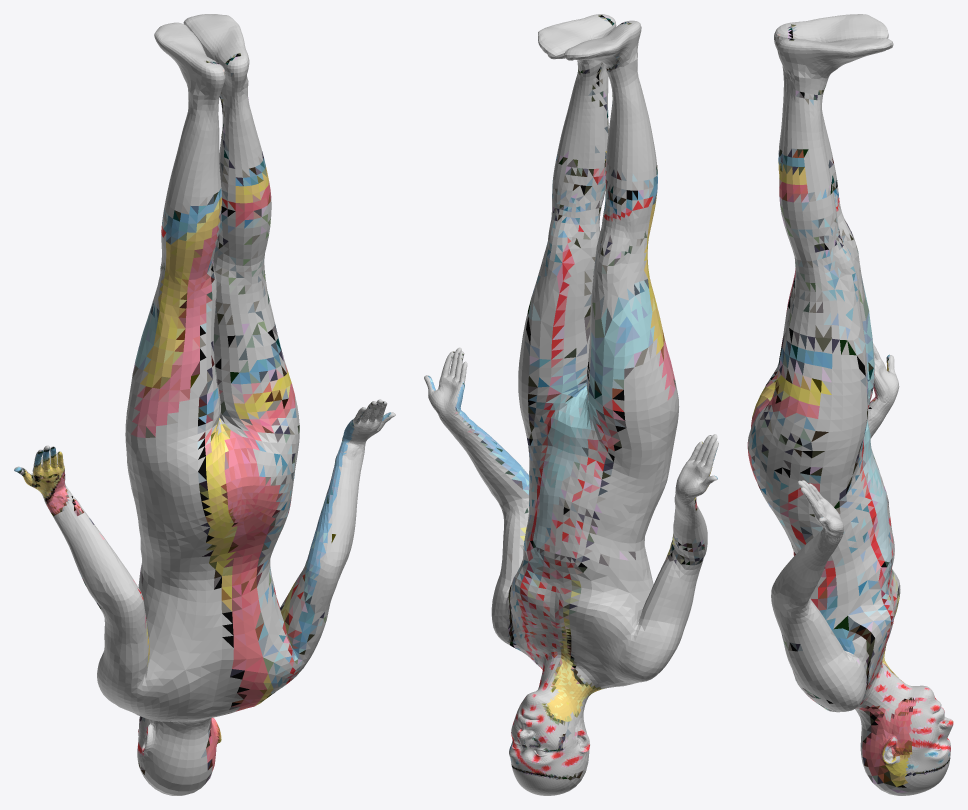
The model's file is body_CM1_colored.obj.
The picture shows the model from 3 angles, left to right: view 1: azimuth 30°, elevation 25°; view 2: azimuth 150°, elevation 25°; view 3: azimuth 270°, elevation 25°; orthographic projection. The views are drawn at different scales.
Parts seen in each view (by area): view 1: c_224_224_224, c_224_128_128, c_224_224_128, c_224_128_160, c_224_224_96, c_128_192_224, c_224_96_128, c_0_0_0, c_192_192_192, c_160_224_224, c_224_160_160, c_192_224_224 (+4 smaller); view 2: c_224_224_224, c_160_224_224, c_192_224_224, c_224_224_128, c_160_192_224, c_192_192_192, c_128_192_224, c_224_64_64, c_224_192_192, c_224_160_160, c_96_96_96, c_160_160_160 (+12 smaller); view 3: c_224_224_224, c_192_224_224, c_224_128_128, c_192_192_192, c_224_224_96, c_96_160_192, c_160_224_224, c_160_192_224, c_224_128_160, c_0_0_0, c_224_224_128, c_64_64_64 (+11 smaller).
Boxes of the visible parts, <box> form: c_224_224_224: <box>14,14,395,795</box>; c_224_128_128: <box>46,181,301,771</box>; c_224_224_128: <box>23,167,295,706</box>; c_224_128_160: <box>49,211,295,762</box>; c_224_224_96: <box>29,178,291,742</box>; c_128_192_224: <box>14,189,386,683</box>; c_224_96_128: <box>57,185,292,751</box>; c_0_0_0: <box>23,54,383,706</box>; c_192_192_192: <box>23,60,382,769</box>; c_160_224_224: <box>135,308,386,662</box>; c_224_160_160: <box>131,315,293,754</box>; c_192_224_224: <box>44,149,362,693</box>; c_224_224_224: <box>424,14,718,795</box>; c_160_224_224: <box>430,180,654,760</box>; c_192_224_224: <box>462,110,704,765</box>; c_224_224_128: <box>526,151,712,721</box>; c_160_192_224: <box>428,195,652,762</box>; c_192_192_192: <box>450,23,701,780</box>; c_128_192_224: <box>430,155,717,749</box>; c_224_64_64: <box>511,198,648,771</box>; c_224_192_192: <box>455,162,620,768</box>; c_224_160_160: <box>512,168,675,771</box>; c_96_96_96: <box>451,60,689,780</box>; c_160_160_160: <box>453,17,702,779</box>; c_224_224_224: <box>748,14,953,795</box>; c_192_224_224: <box>749,191,949,770</box>; c_224_128_128: <box>747,183,948,775</box>; c_192_192_192: <box>762,23,949,775</box>; c_224_224_96: <box>755,171,908,786</box>; c_96_160_192: <box>751,156,949,768</box>; c_160_224_224: <box>766,218,942,768</box>; c_160_192_224: <box>756,189,949,769</box>; c_224_128_160: <box>747,268,950,766</box>; c_0_0_0: <box>765,30,949,787</box>; c_224_224_128: <box>752,165,907,784</box>; c_64_64_64: <box>761,94,946,783</box>.
Size of the model in its own units: 0.8296 by 1.8 by 0.4412.
